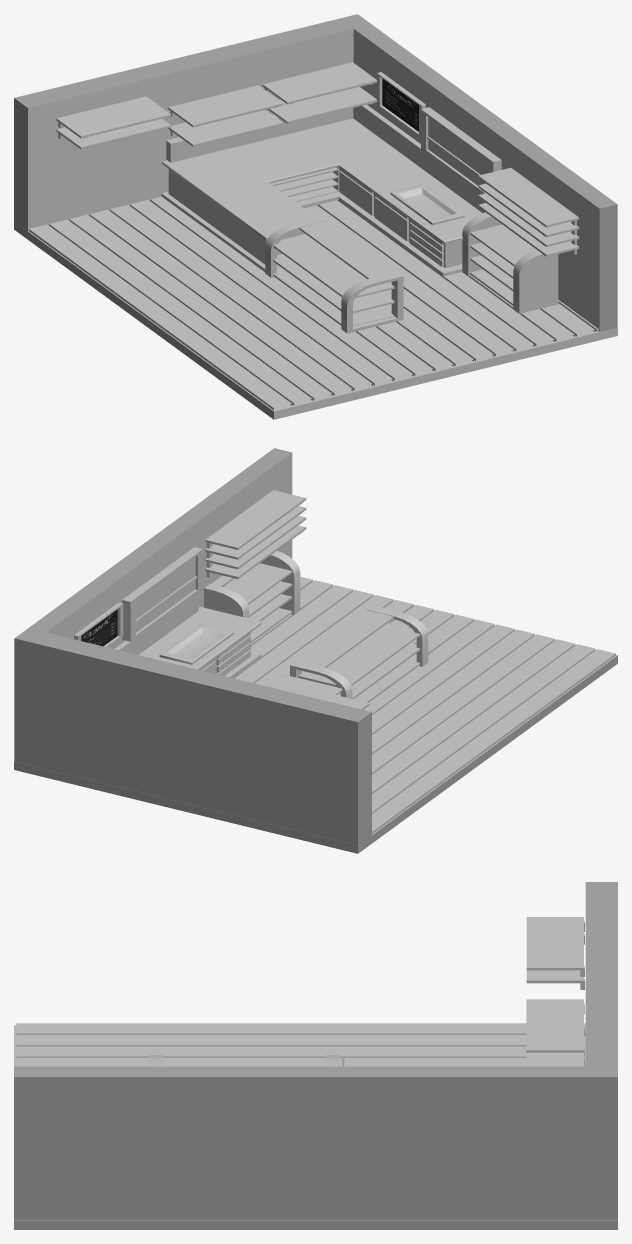
File: 1_coffeeShop_post.fbx
3 views of the same model, one above another, from view 1: azimuth 30°, elevation 25°; view 2: azimuth 150°, elevation 25°; view 3: azimuth 270°, elevation 25° (orthographic). The views are drawn at different scales.
Visible parts, largest first — view 1: Isometric_cafe; view 2: Isometric_cafe; view 3: Isometric_cafe.
Part boxes in pixels (x1,y1,x2,y2): Isometric_cafe: (14, 14, 617, 419); Isometric_cafe: (14, 448, 617, 853); Isometric_cafe: (14, 882, 617, 1229).
Size of the model in its own units: 541 by 198 by 709.
